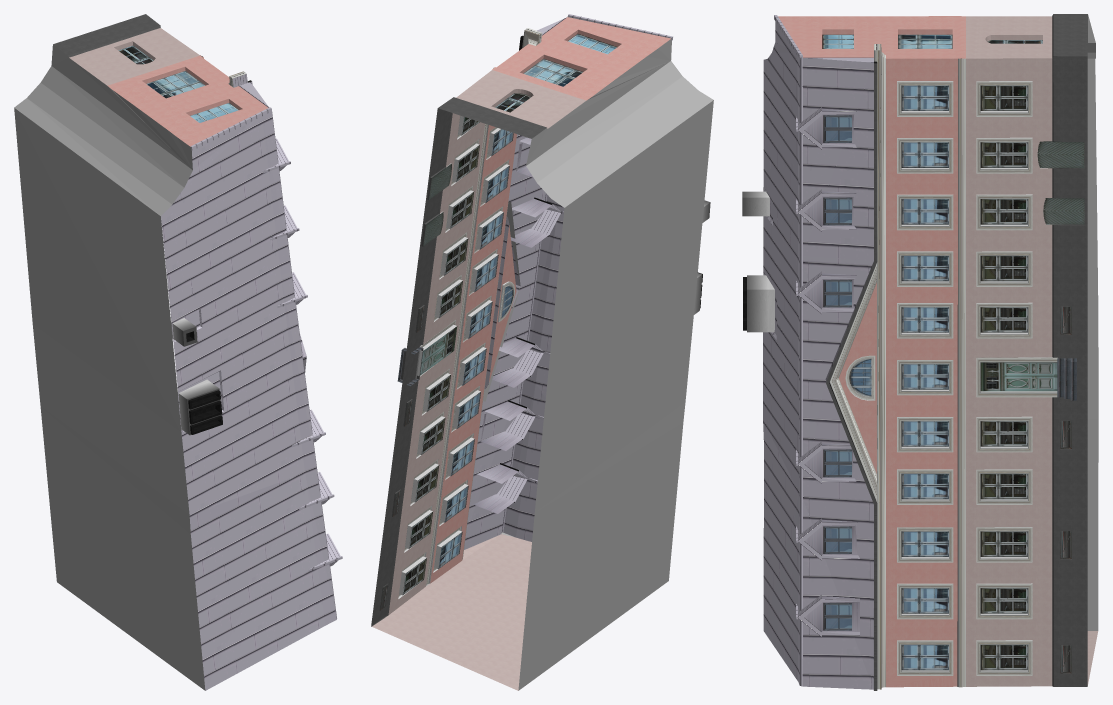
Rendered from Vaike-Kloostri_3.obj.
3 renders of one model, left to right at view 1: azimuth 30°, elevation 25°; view 2: azimuth 150°, elevation 25°; view 3: azimuth 270°, elevation 25°, orthographic. The views are drawn at different scales.
Parts seen in each view (by area): view 1: Vaike_Kloostri_3; view 2: Vaike_Kloostri_3; view 3: Vaike_Kloostri_3.
Boxes of the visible parts, x1,y1,x2,y2 form: Vaike_Kloostri_3: [14, 14, 342, 690]; Vaike_Kloostri_3: [371, 14, 713, 690]; Vaike_Kloostri_3: [742, 14, 1098, 690].
Size of the model in its own units: 10.84 by 28.2 by 14.44.
